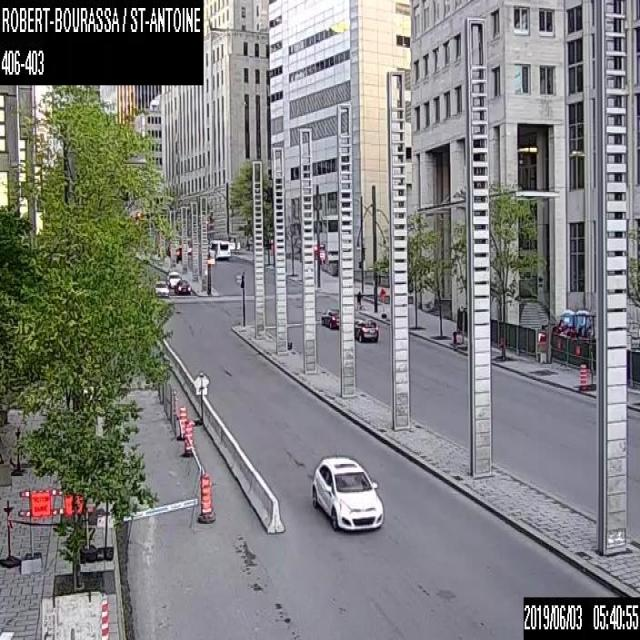bus: (208, 238, 230, 258)
construction: (19, 488, 97, 560), (40, 589, 101, 639), (197, 470, 215, 522), (101, 590, 109, 638), (184, 420, 193, 455), (179, 404, 186, 439), (379, 286, 386, 314), (579, 363, 586, 388)
pedestrian: (354, 291, 362, 309)
vehicle: (312, 453, 384, 531), (355, 314, 378, 342), (321, 308, 339, 328), (174, 278, 190, 294), (154, 279, 169, 295), (166, 271, 181, 287), (208, 247, 215, 265), (175, 246, 181, 257)
